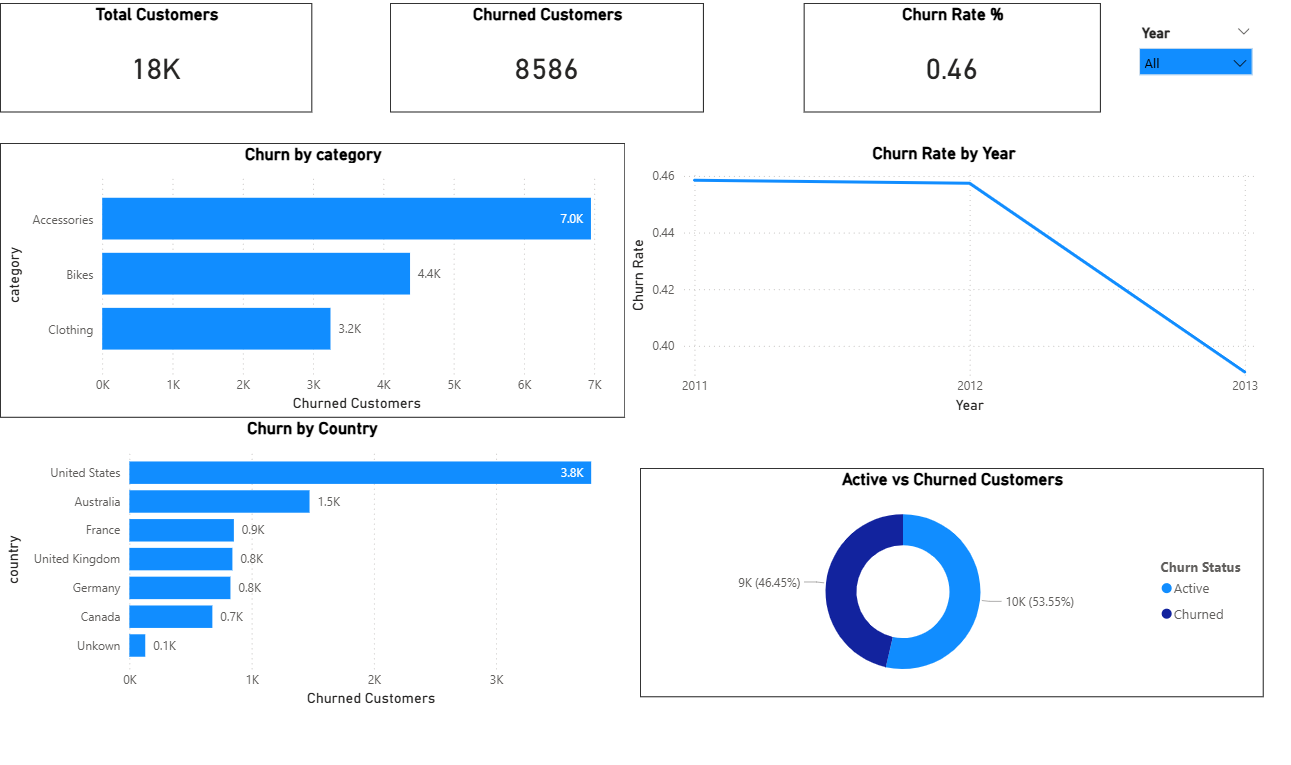

Layout of this report page (visuals, bound fields, positions):
{"tool":"powerbi","page":{"name":"Customer Churn Analysis","canvas":[1300,800],"ordinal":1},"visuals":[{"type":"card","title":"Total Customers","fields":{"Values":["gold fact_sales.Count of Distinct Customers"]},"box":[0,10.1,313.1,109.6],"z":0},{"type":"card","title":"Churned Customers","fields":{"Values":["Date.Churned Customers (year)"]},"box":[391,10.1,314.5,109.6],"z":1000},{"type":"card","title":"Churn Rate %","fields":{"Values":["Date.Churn Rate"]},"box":[805.1,10.1,297.2,109.6],"z":2000},{"type":"barChart","title":"Churn by category","fields":{"Category":["gold dim_products.category"],"Y":["gold fact_sales.Churned Customers"]},"box":[0,150,626.2,275.6],"z":3000},{"type":"barChart","title":"Churn by Country","fields":{"Y":["gold fact_sales.Churned Customers"],"Category":["gold dim_customers.country"]},"box":[0,425.6,626.2,294.3],"z":4000},{"type":"donutChart","title":"Active vs Churned Customers","fields":{"Y":["gold fact_sales.Count of Distinct Customers"],"Category":["gold dim_customers.Churn Status"]},"box":[640.6,476.1,624.7,229.4],"z":5000},{"type":"lineChart","fields":{"Category":["Date.Year"],"Y":["Date.Churn Rate"]},"box":[626.2,150,639.1,275.6],"z":6000},{"type":"slicer","fields":{"Values":["Date.Year"]},"box":[1131.1,26,134.2,66.4],"z":7000}]}

Visuals, with their boxes on the page's 1300x800 design canvas (x1, y1, x2, y2). These are canvas units, not pixel positions in the 1291x765 screenshot, which may show the page scaled, cropped or inside an application window:
"Total Customers" card: x1=0, y1=10, x2=313, y2=120
"Churned Customers" card: x1=391, y1=10, x2=706, y2=120
"Churn Rate %" card: x1=805, y1=10, x2=1102, y2=120
"Churn by category" barChart: x1=0, y1=150, x2=626, y2=426
"Churn by Country" barChart: x1=0, y1=426, x2=626, y2=720
"Active vs Churned Customers" donutChart: x1=641, y1=476, x2=1265, y2=706
lineChart - Date.Year x Date.Churn Rate: x1=626, y1=150, x2=1265, y2=426
slicer - Date.Year: x1=1131, y1=26, x2=1265, y2=92
